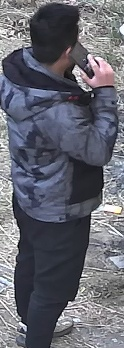phone: (3, 7, 118, 165)
